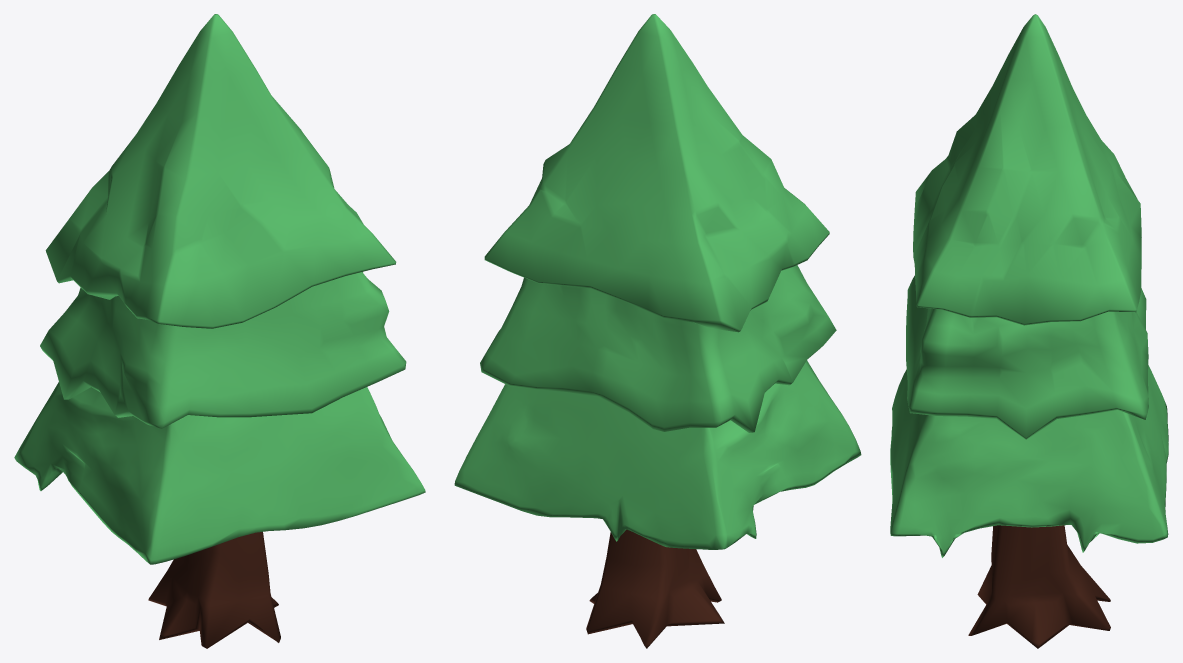
File: pineTree.fbx
3 views of the same model, side by side, from view 1: azimuth 30°, elevation 25°; view 2: azimuth 150°, elevation 25°; view 3: azimuth 270°, elevation 25° (orthographic).
Visible parts, largest first — view 1: Leaves Layer 1, Leaves Layer 3, Leaves Layer 2, Trunk; view 2: Leaves Layer 1, Leaves Layer 3, Leaves Layer 2, Trunk; view 3: Leaves Layer 1, Leaves Layer 3, Leaves Layer 2, Trunk.
Part boxes in pixels (x1,y1,x2,y2): Leaves Layer 1: (45, 14, 396, 328); Leaves Layer 3: (14, 382, 425, 564); Leaves Layer 2: (40, 272, 406, 428); Trunk: (148, 532, 280, 648); Leaves Layer 1: (484, 14, 829, 332); Leaves Layer 3: (454, 360, 861, 549); Leaves Layer 2: (480, 265, 836, 432); Trunk: (586, 529, 724, 648); Leaves Layer 1: (913, 14, 1141, 325); Leaves Layer 3: (890, 365, 1168, 557); Leaves Layer 2: (906, 275, 1148, 439); Trunk: (968, 525, 1110, 648).
Size of the model in its own units: 223 by 463 by 193.
